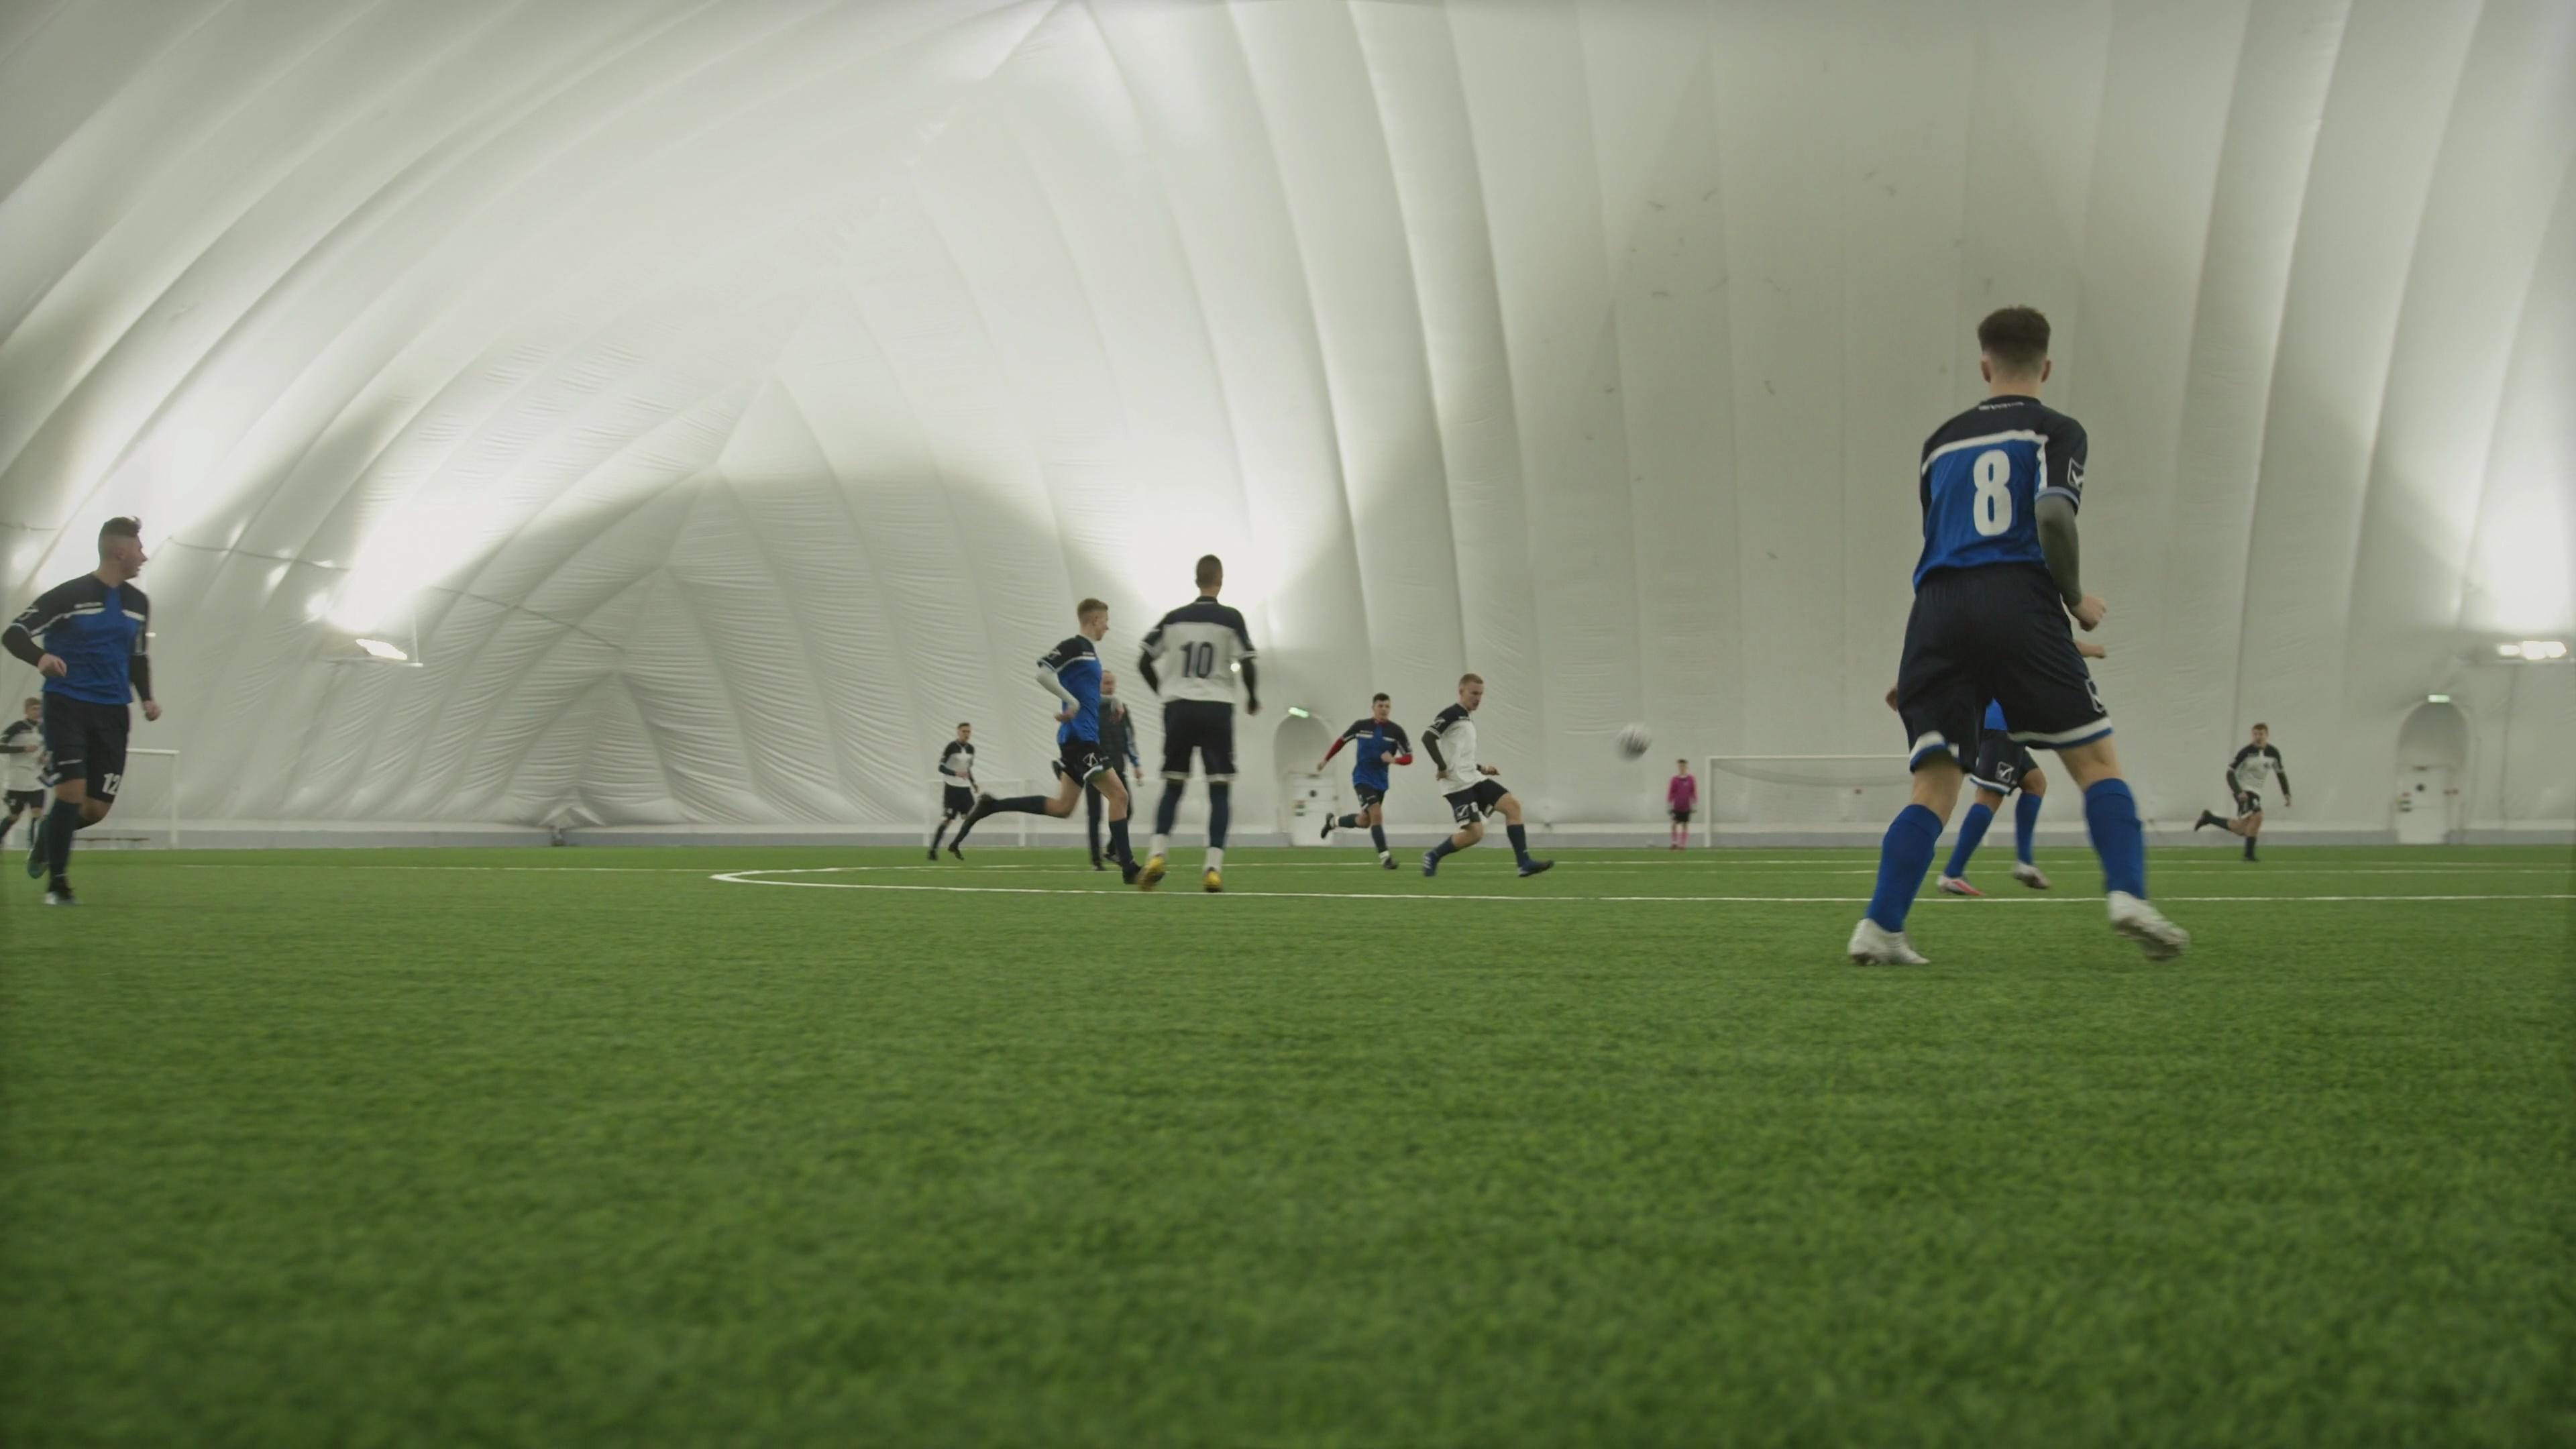other: (1081, 667, 1146, 883)
team1: (1845, 303, 2189, 968), (4, 511, 161, 909), (973, 600, 1132, 881), (1323, 688, 1419, 867)
team1gk: (1663, 761, 1698, 847)
team2: (1136, 550, 1260, 874), (1417, 671, 1553, 881), (2217, 722, 2295, 863), (925, 722, 985, 862), (5, 692, 44, 858)
